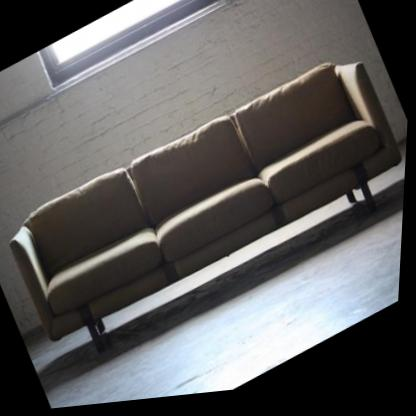Sofa: (0, 40, 413, 380)
